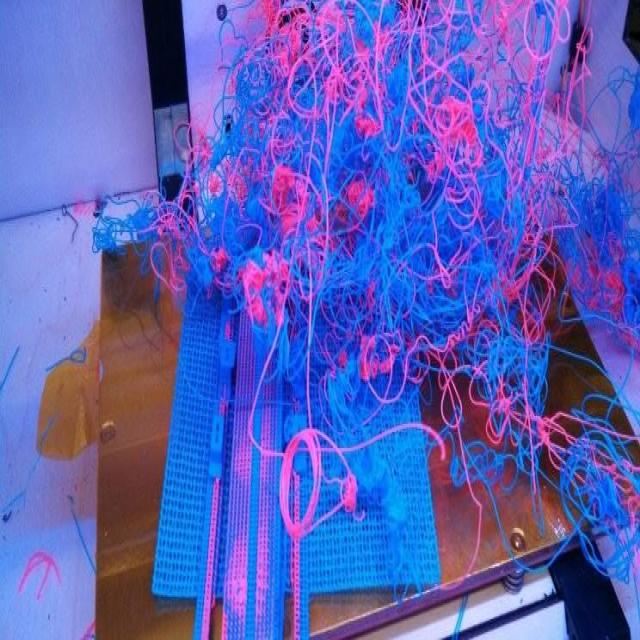Spaghetti: (175, 0, 640, 580), (75, 180, 172, 294)
